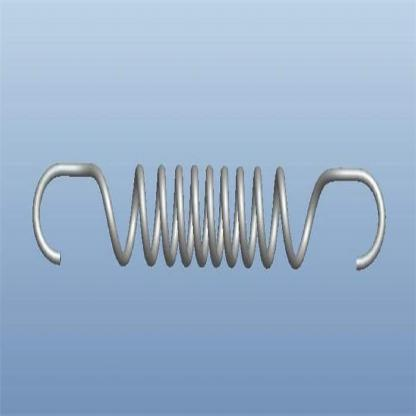FOD: (27, 155, 388, 284)
